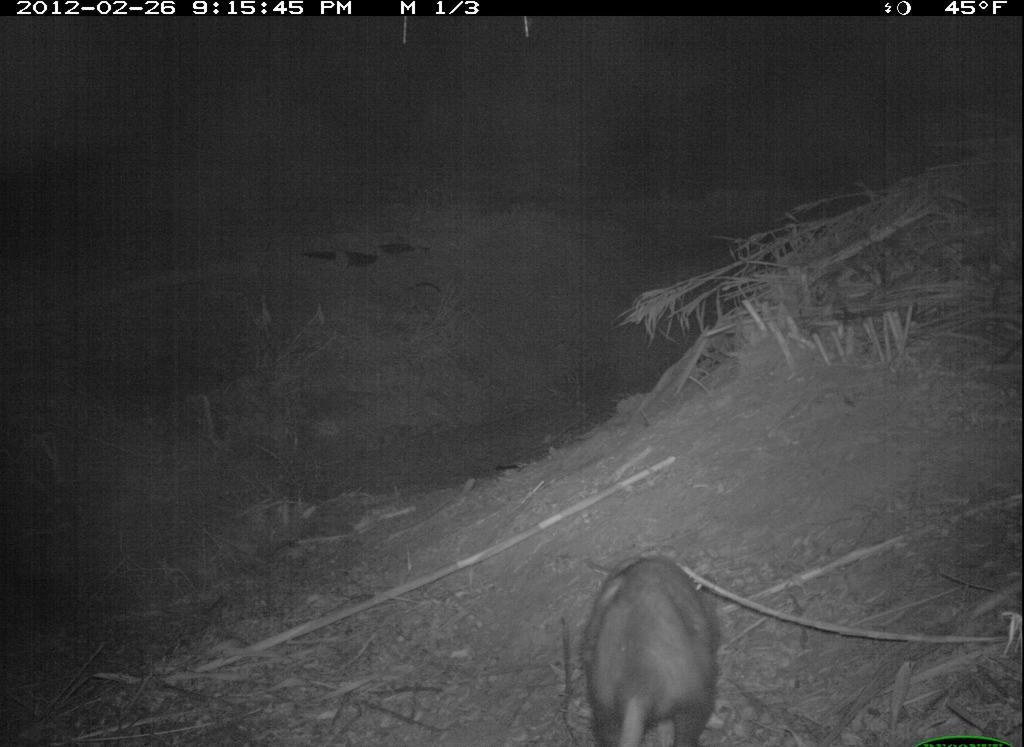opossum: (518, 518, 737, 747)
